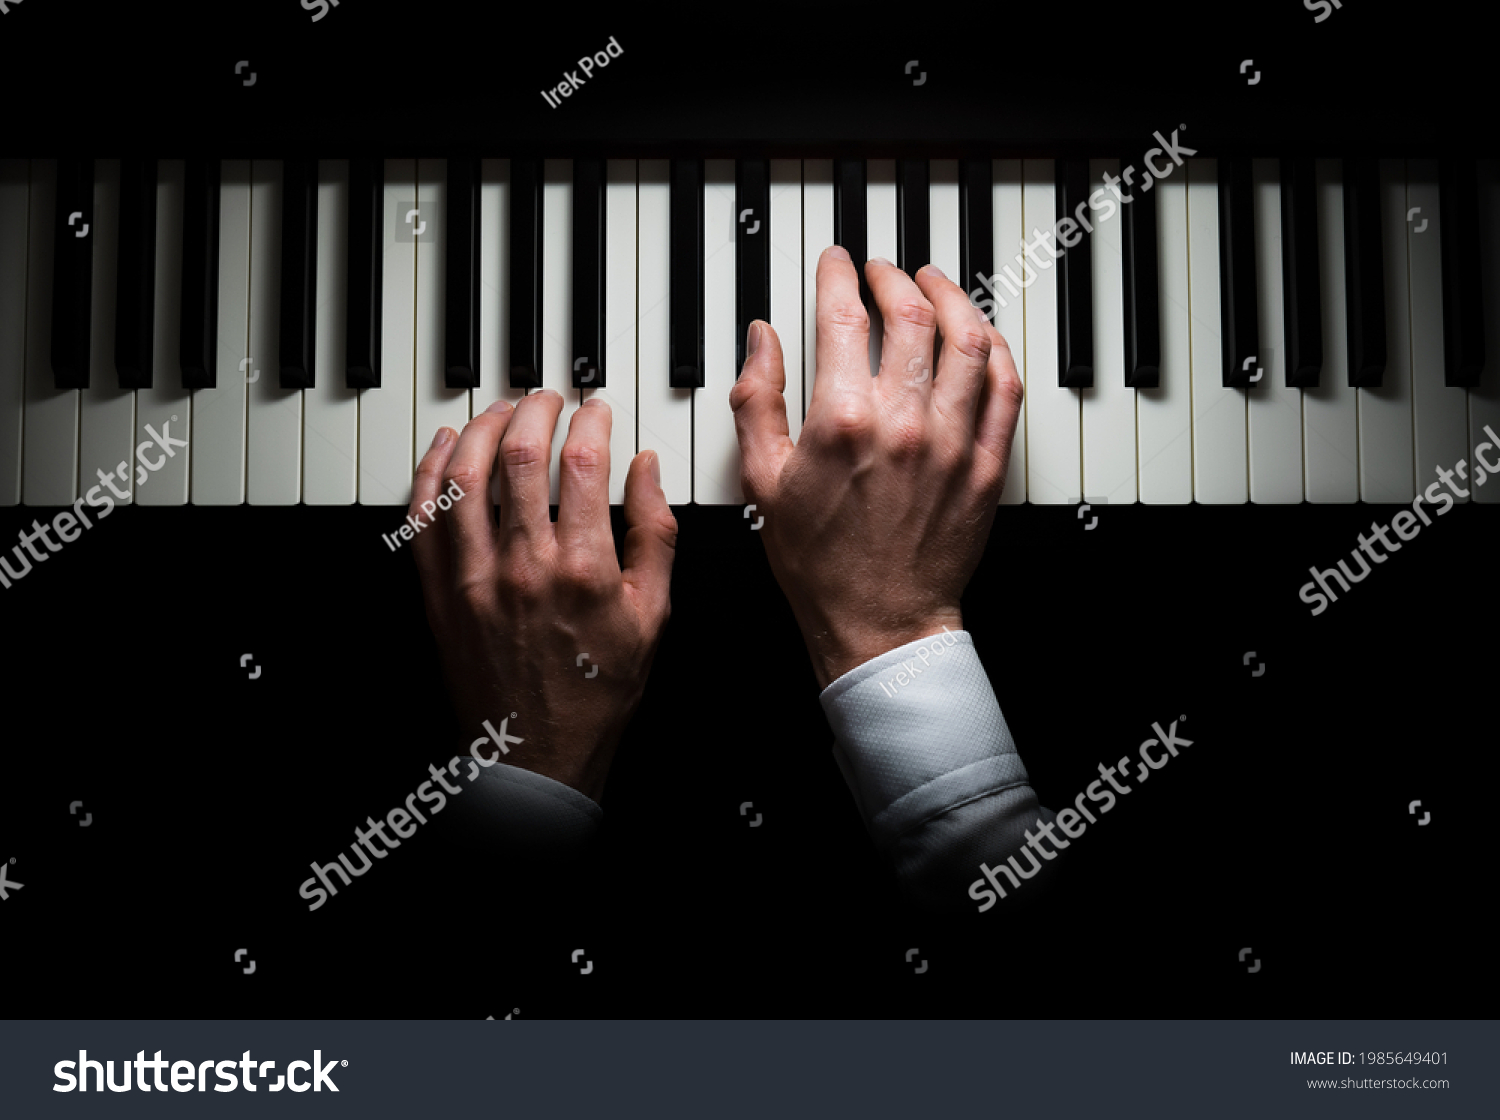Piano: (1, 1, 1488, 552)
